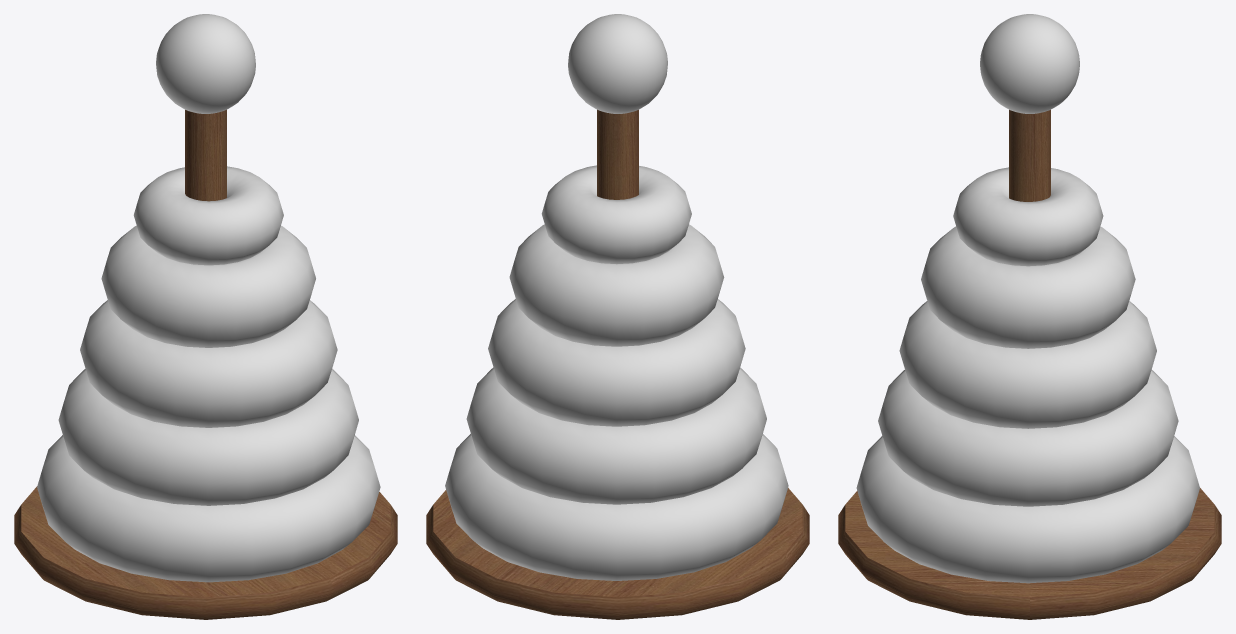
Rendered from BaliseBasic.FBX.
The picture shows the model from 3 angles, left to right: view 1: azimuth 30°, elevation 25°; view 2: azimuth 150°, elevation 25°; view 3: azimuth 270°, elevation 25°; orthographic projection.
Parts seen in each view (by area): view 1: CircleToy1, CircleToy2, SupportToy, CircleToy3, CircleToy4, CircleToy5, BallToy; view 2: CircleToy1, CircleToy2, SupportToy, CircleToy3, CircleToy4, CircleToy5, BallToy; view 3: CircleToy1, CircleToy2, CircleToy3, SupportToy, CircleToy4, CircleToy5, BallToy.
Part boxes in pixels (bbox=[...]): CircleToy1: bbox=[37, 435, 380, 582]; CircleToy2: bbox=[58, 369, 358, 505]; SupportToy: bbox=[14, 109, 397, 619]; CircleToy3: bbox=[80, 300, 337, 427]; CircleToy4: bbox=[101, 225, 315, 347]; CircleToy5: bbox=[133, 166, 283, 265]; BallToy: bbox=[156, 14, 255, 113]; CircleToy1: bbox=[445, 434, 788, 580]; CircleToy2: bbox=[466, 367, 766, 504]; SupportToy: bbox=[426, 109, 809, 619]; CircleToy3: bbox=[488, 299, 745, 426]; CircleToy4: bbox=[509, 224, 724, 346]; CircleToy5: bbox=[541, 165, 691, 264]; BallToy: bbox=[568, 14, 667, 113]; CircleToy1: bbox=[856, 436, 1199, 583]; CircleToy2: bbox=[878, 370, 1178, 506]; CircleToy3: bbox=[899, 301, 1156, 428]; SupportToy: bbox=[838, 110, 1221, 619]; CircleToy4: bbox=[921, 226, 1135, 348]; CircleToy5: bbox=[953, 167, 1103, 266]; BallToy: bbox=[980, 14, 1079, 113].
Bounding box in the file's own units: 7.14 × 10.68 × 7.03.
Materials: 1 (1 with a texture image).
